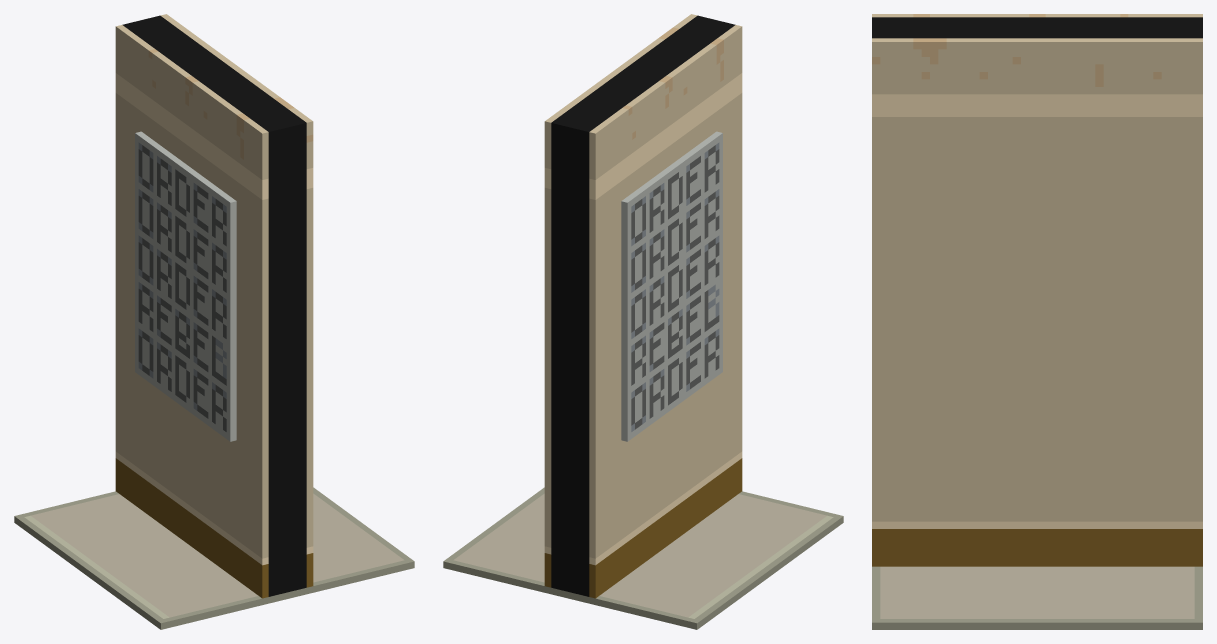
File: Parede_Poster_2.obj
The picture shows the model from 3 angles, left to right: view 1: azimuth 30°, elevation 25°; view 2: azimuth 150°, elevation 25°; view 3: azimuth 270°, elevation 25°; orthographic projection. The views are drawn at different scales.
Size of the model in its own units: 40 by 71 by 40.
1 material, 1 textured.
